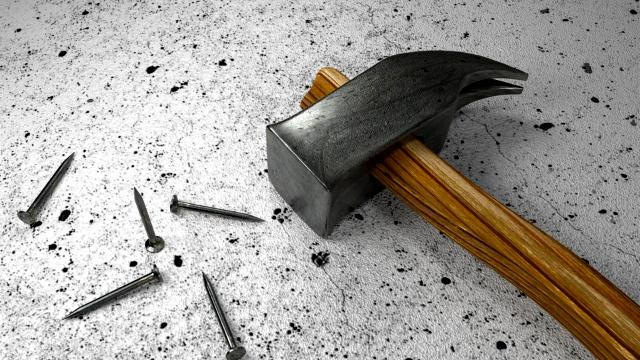hammer: (260, 46, 640, 360)
